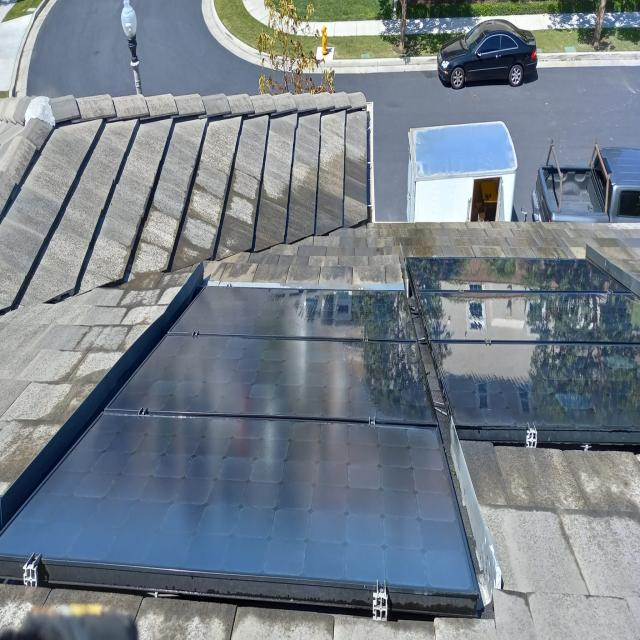clean-solar-panel: (0, 284, 479, 616), (408, 258, 640, 444)
